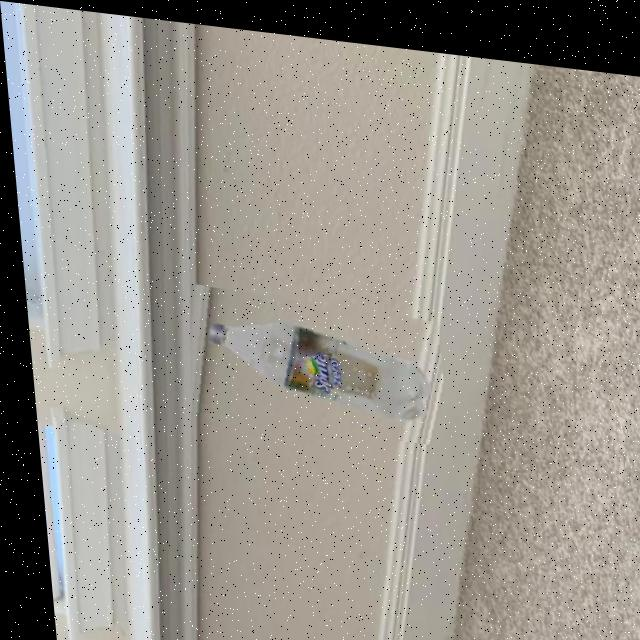litter: (172, 277, 442, 436)
